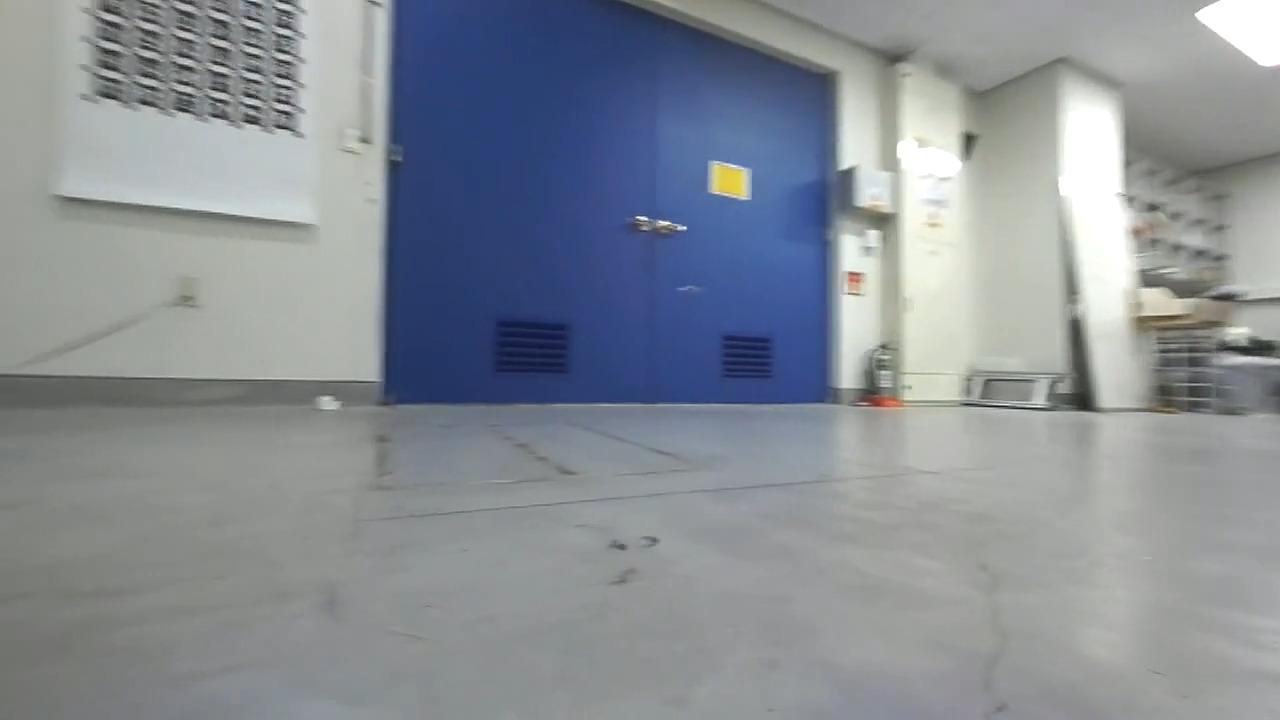crazyflie: (668, 278, 709, 299)
